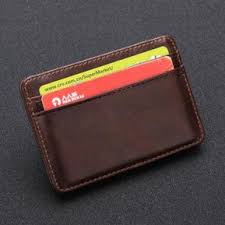monedero: (20, 35, 205, 193)
